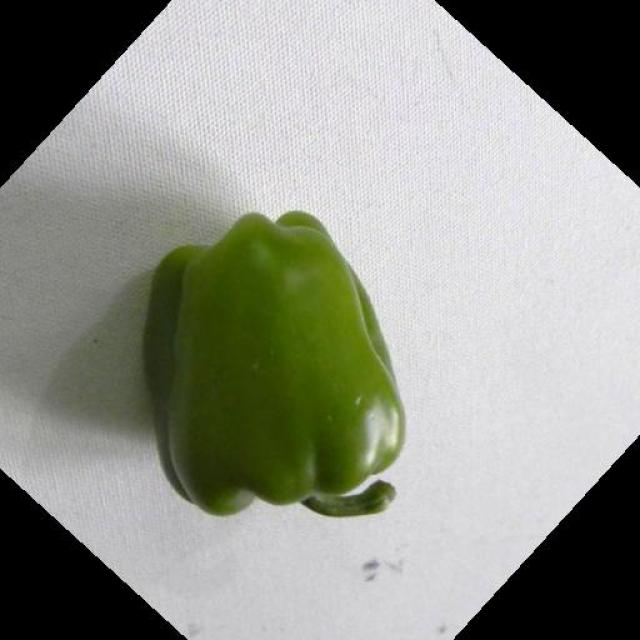Fresh_Capsicum: (122, 208, 462, 528)
